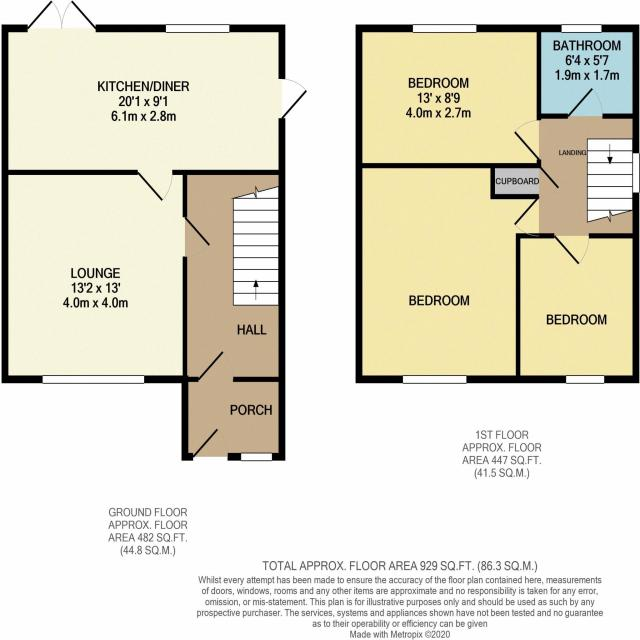DOOR: (130, 169, 179, 205), (549, 232, 594, 268), (188, 425, 232, 461), (277, 74, 310, 122), (193, 347, 237, 382), (182, 213, 214, 261), (563, 85, 605, 119), (510, 193, 540, 239), (512, 118, 542, 162)
DOUBLE DOOR: (22, 0, 102, 32)
ROOM: (0, 0, 312, 208), (2, 168, 217, 383), (356, 162, 539, 383), (355, 24, 541, 169), (182, 168, 286, 383), (515, 233, 640, 384)
WINDOW: (39, 370, 148, 387), (163, 19, 232, 35), (400, 372, 469, 388), (411, 22, 479, 35), (558, 21, 604, 36), (564, 372, 606, 386), (238, 449, 273, 463)
